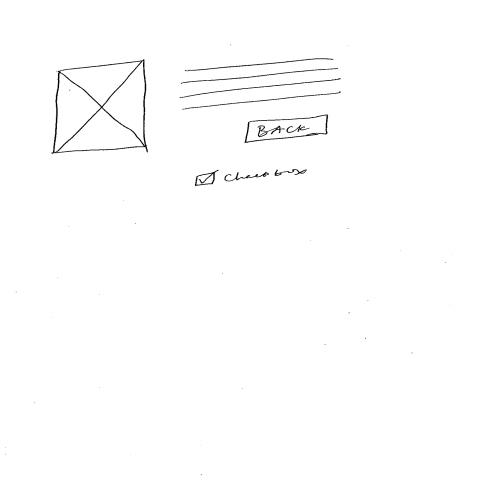Button: (242, 113, 333, 145)
Check Box: (191, 166, 310, 189)
Image: (51, 60, 150, 156)
Paragraph: (182, 55, 345, 112)
